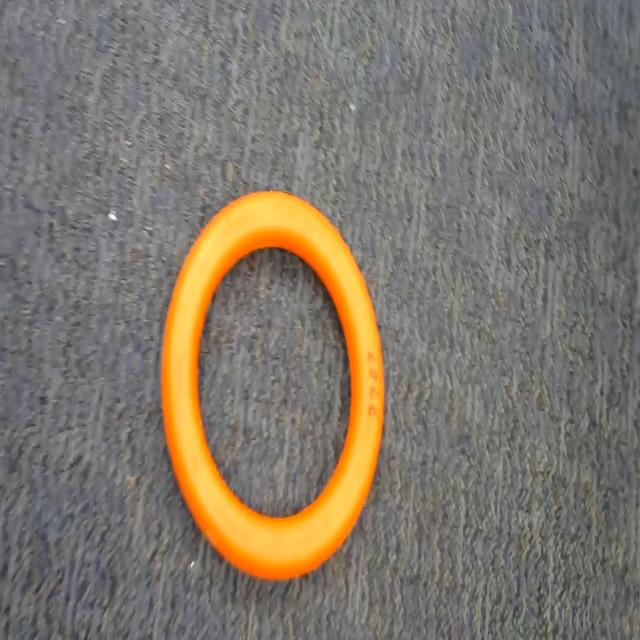note: (139, 183, 406, 598)
